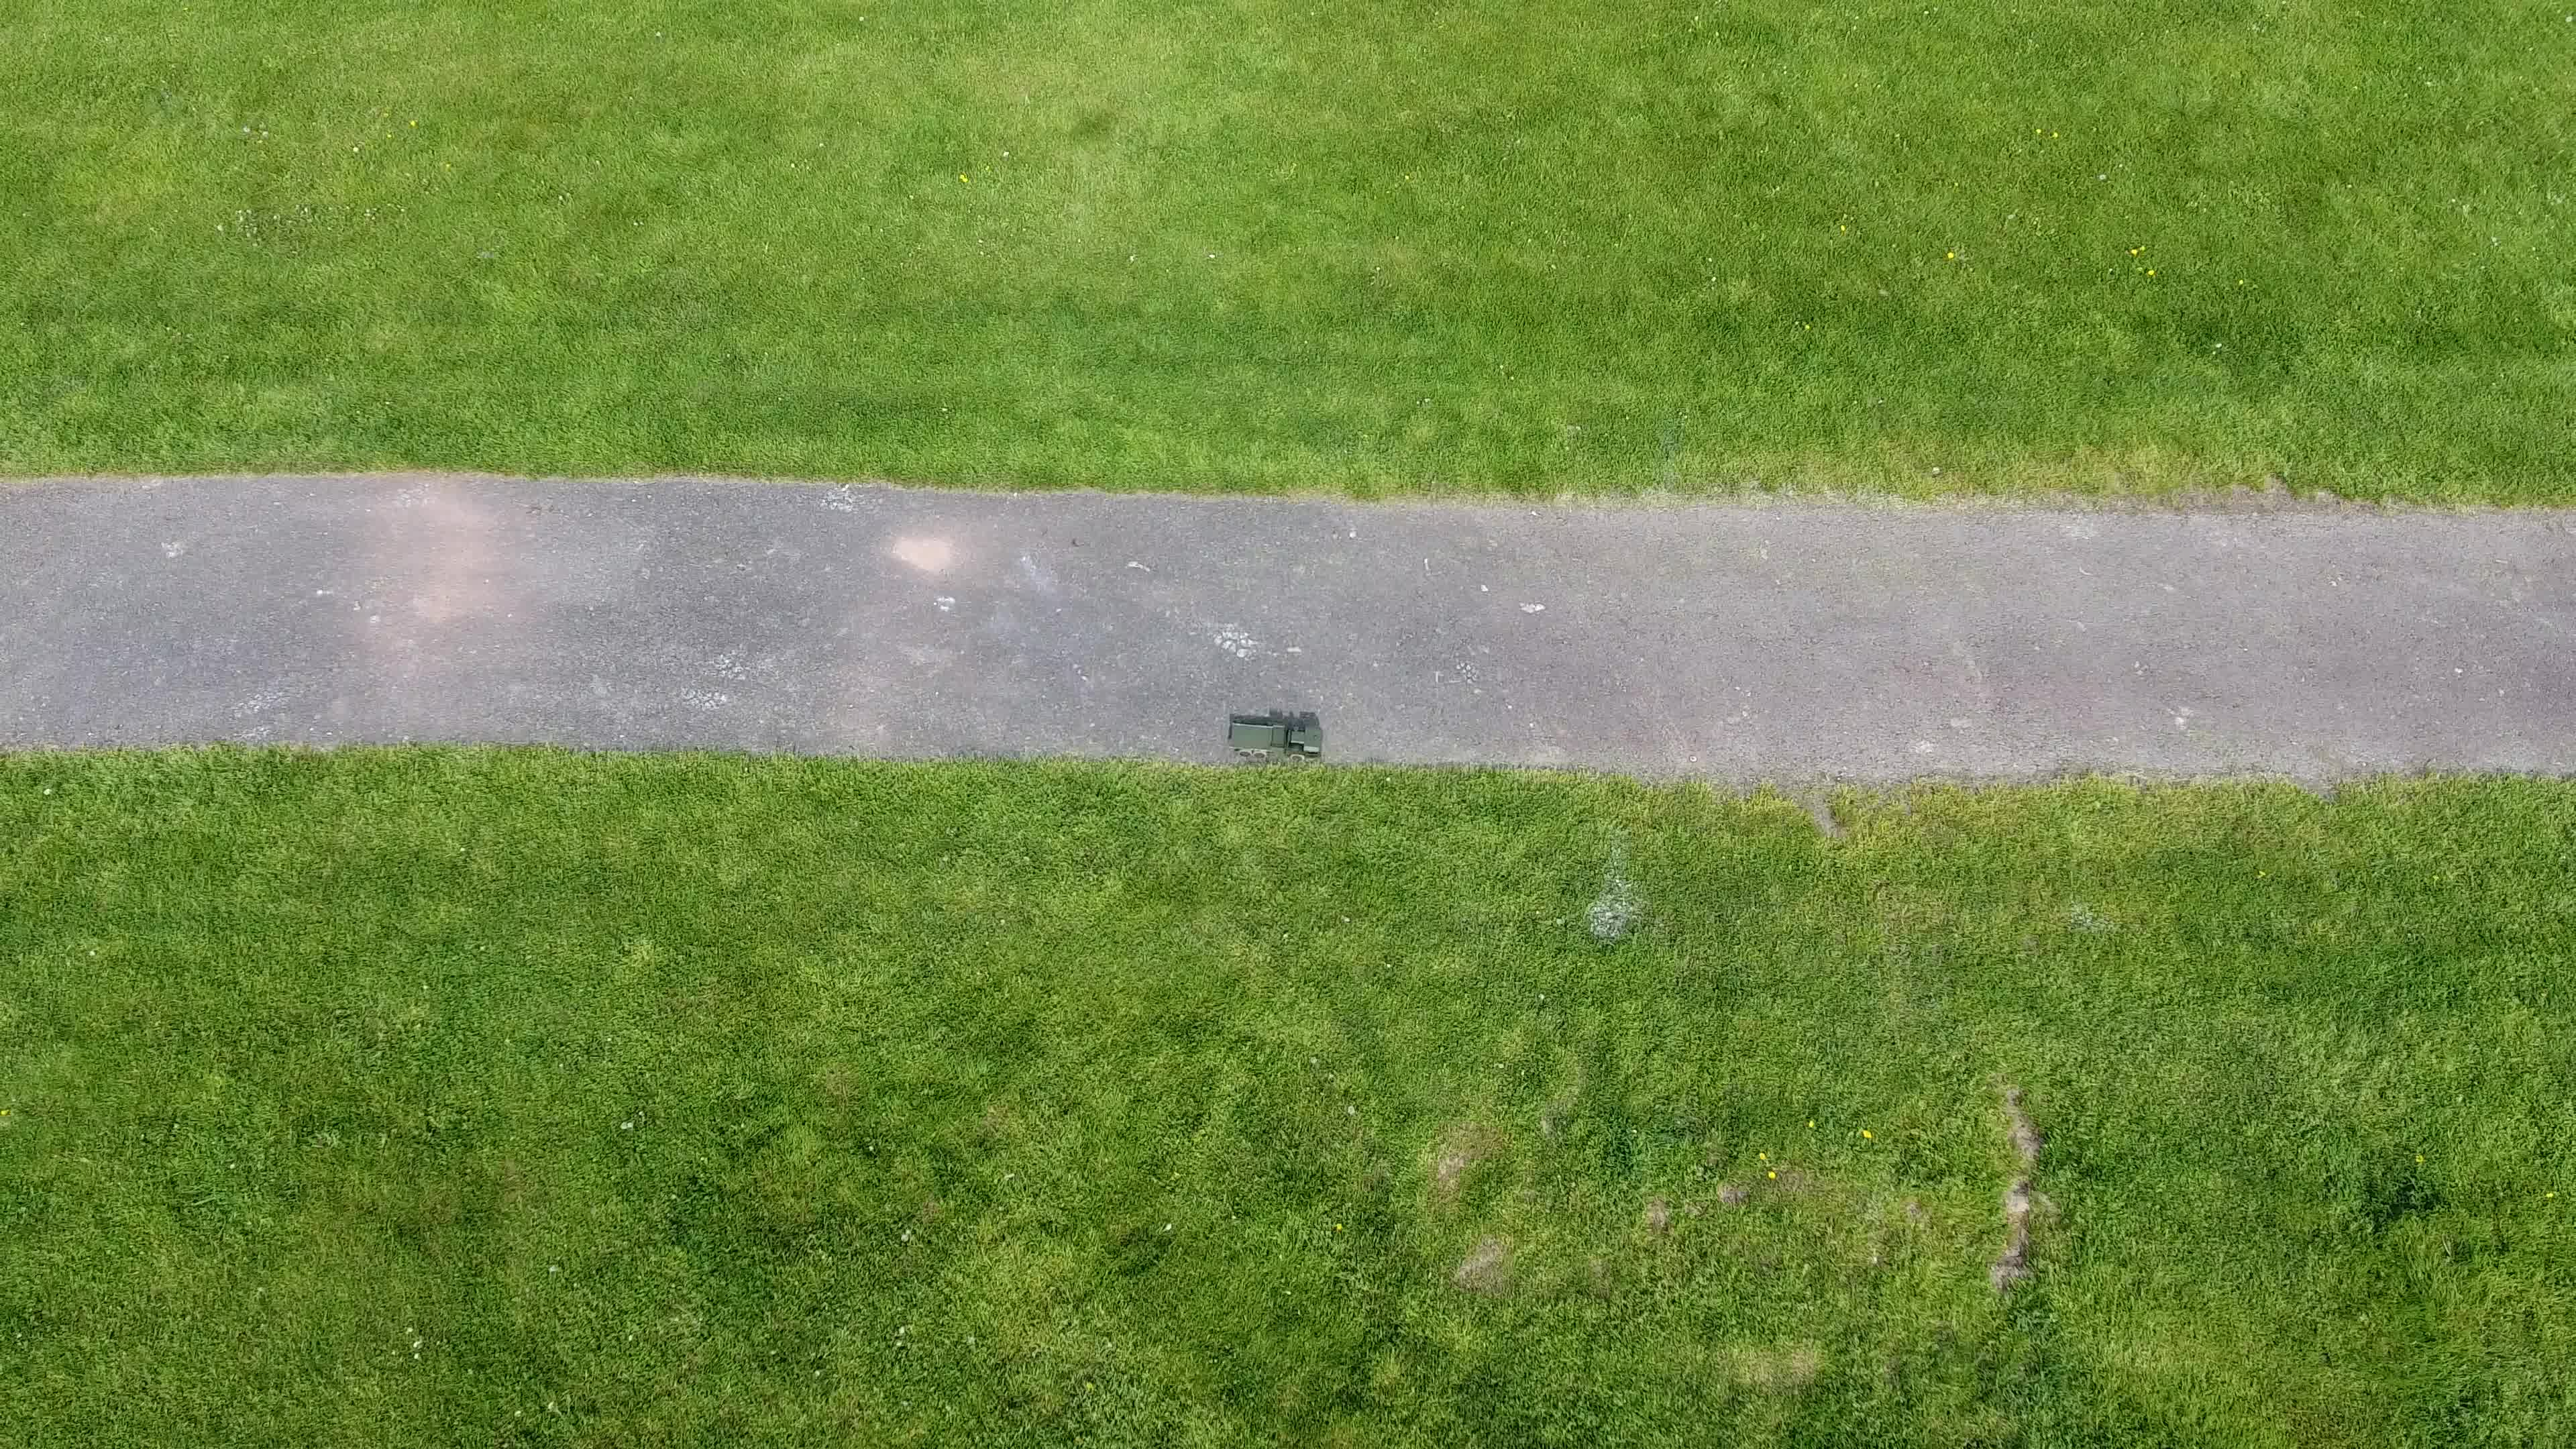transporter9: (1221, 713, 1325, 766)
